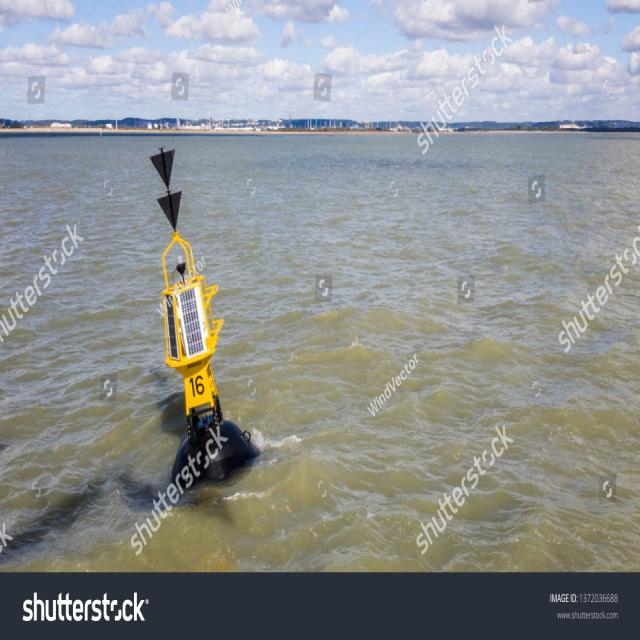2.2 cardinal mark -S-: (134, 125, 279, 507)
